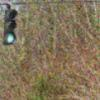traffic lights: (4, 8, 18, 46)
